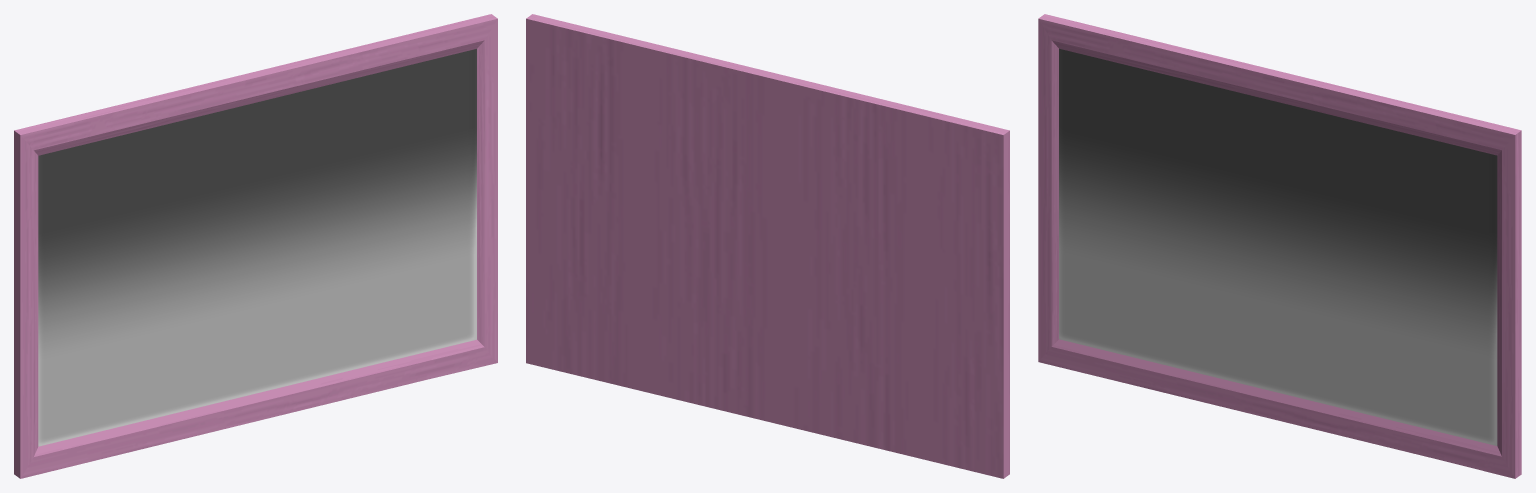
The model's file is Mirror_J.FBX.
3 renders of one model, left to right at view 1: azimuth 30°, elevation 25°; view 2: azimuth 150°, elevation 25°; view 3: azimuth 330°, elevation 25°, orthographic.
Visible parts, largest first — view 1: Mirror; view 2: Mirror; view 3: Mirror.
Boxes of the visible parts, x1=… form: Mirror: x1=14, y1=14, x2=497, y2=478; Mirror: x1=526, y1=14, x2=1009, y2=478; Mirror: x1=1038, y1=14, x2=1521, y2=478.
Size of the model in its own units: 238 by 164 by 5.52.
